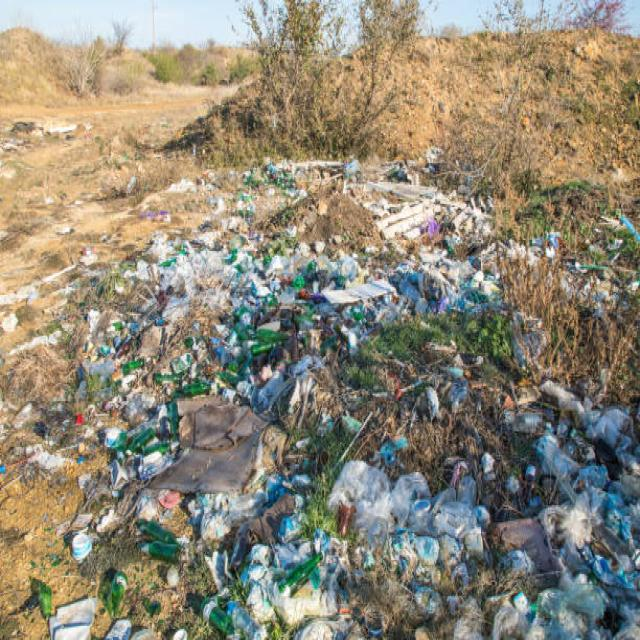plastic: (294, 430, 576, 640), (232, 272, 404, 330)
